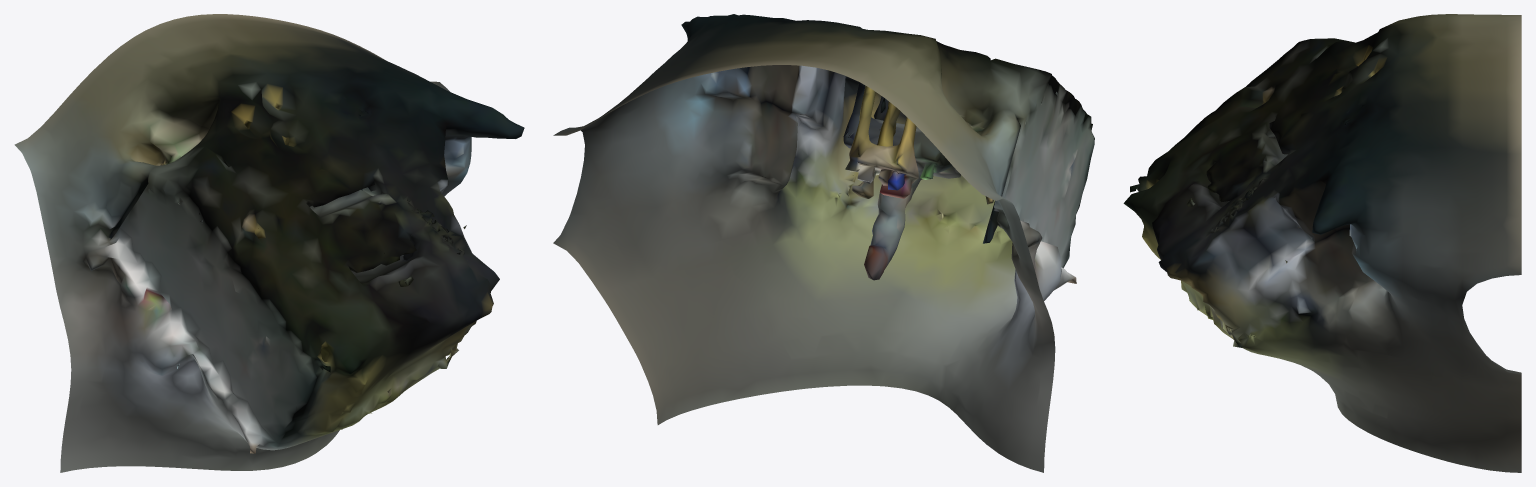
The model's file is meshed_pointcloud_better_tissuebox_decimated.obj.
The picture shows the model from 3 angles, left to right: view 1: azimuth 30°, elevation 25°; view 2: azimuth 150°, elevation 25°; view 3: azimuth 270°, elevation 25°; orthographic projection. The views are drawn at different scales.
Bounding box in the file's own units: 4.17 × 3.57 × 3.5.
